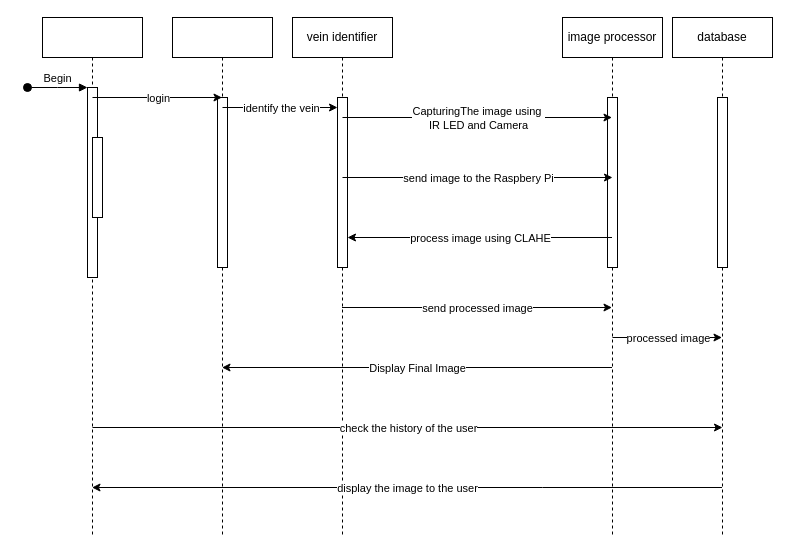
This 790x555 diagram has some shape labels left out. Each missing label, with the box of its shape:
system: (172, 16, 272, 538)
user: (42, 16, 142, 538)
